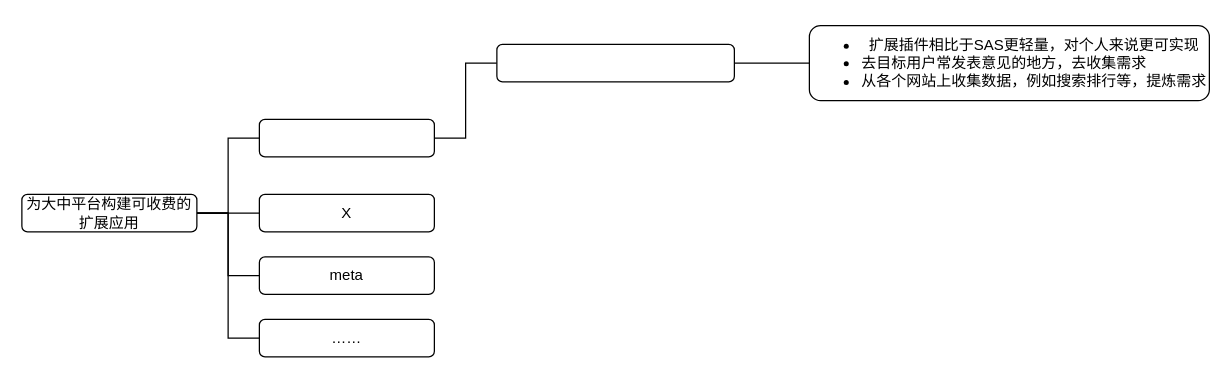
Some shapes in this 1231 by 379 pixel diagram are drawn without their labels. The shapes that lost their labels are listed below. From the top down, each one's box as (x1, y1, x2, y2) in pixels, then its label:
(496, 43, 734, 82): $20K/Month gpt extension
(258, 118, 434, 157): google chrome
